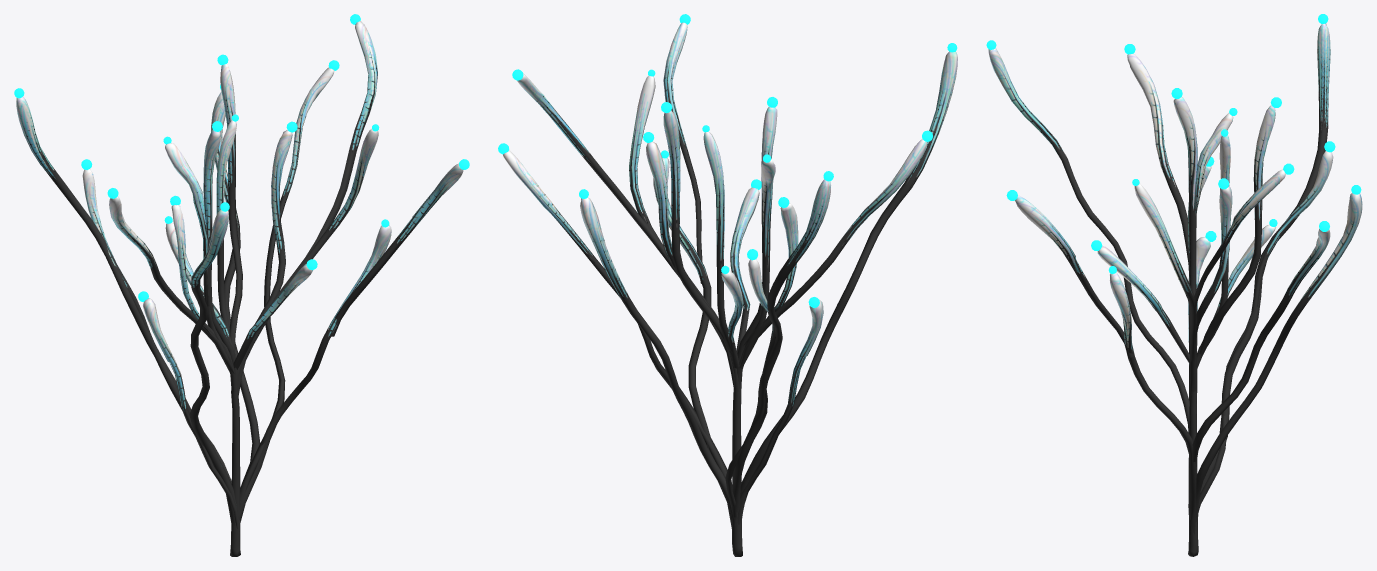
Rendered from fractalNEWV10.glb.
3 views of the same model, side by side, from view 1: azimuth 30°, elevation 25°; view 2: azimuth 150°, elevation 25°; view 3: azimuth 270°, elevation 25° (orthographic). The views are drawn at different scales.
Parts seen in each view (by area): view 1: NeuralFractal, Spheres; view 2: NeuralFractal, Spheres; view 3: NeuralFractal, Spheres.
Part boxes in pixels (x1,y1,x2,y2): NeuralFractal: (16, 21, 463, 556); Spheres: (14, 14, 469, 301); NeuralFractal: (503, 22, 957, 556); Spheres: (498, 14, 957, 307); NeuralFractal: (988, 23, 1362, 556); Spheres: (986, 14, 1361, 273).
Size of the model in its own units: 0.7466 by 1 by 0.722.
Materials: 2 (1 with a texture image).
